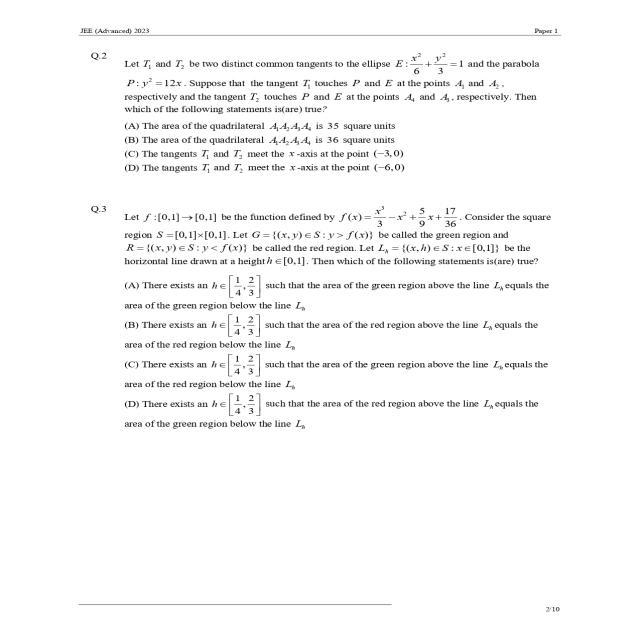Answer_Block: (59, 271, 594, 444), (59, 120, 594, 183)
Question_Answer_Block: (59, 187, 594, 444), (59, 45, 594, 183)
Question_Block: (59, 187, 594, 270), (59, 45, 594, 119)
Question_Paper_Area: (59, 45, 594, 502)
